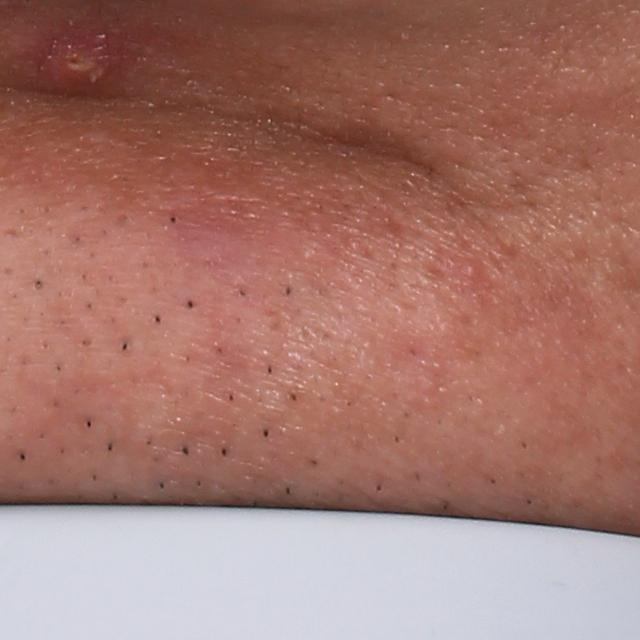pustule: (47, 33, 114, 88)
